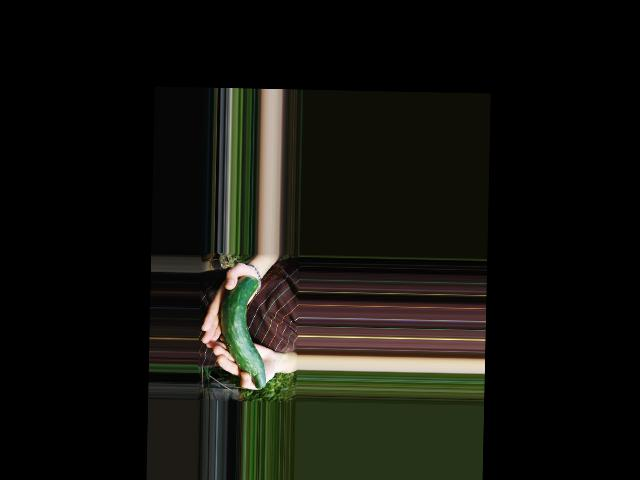cucumber: (219, 274, 268, 388)
